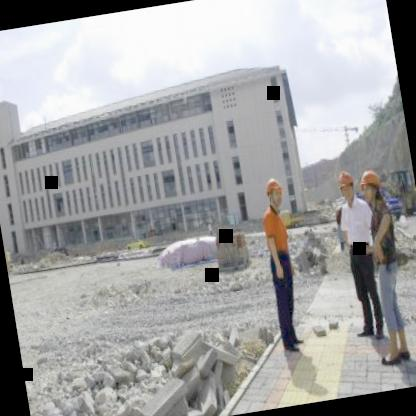helmet: (355, 164, 386, 205), (261, 172, 288, 214), (334, 164, 356, 204)
